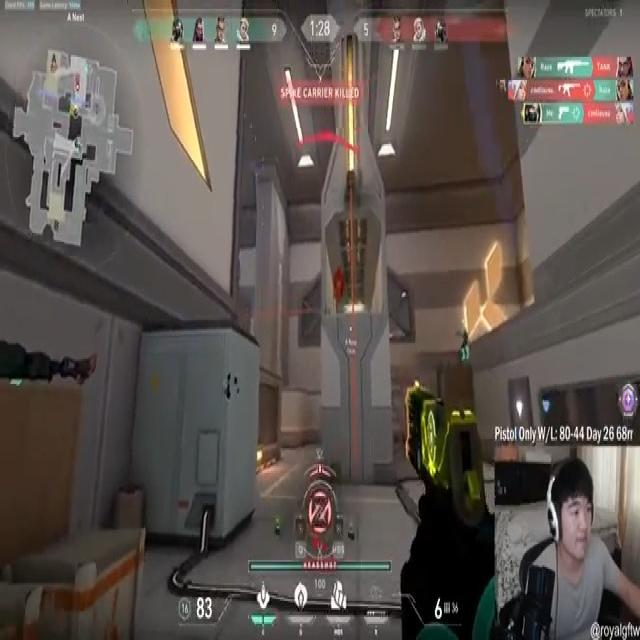ally: (456, 315, 471, 367)
